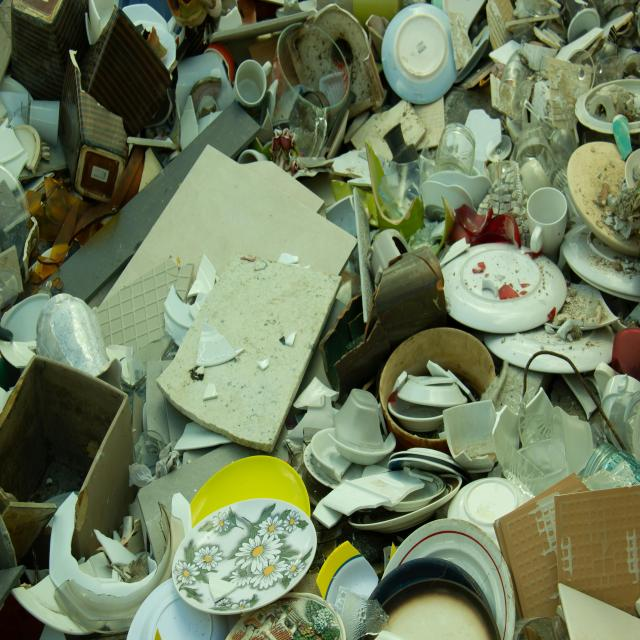electronic: (170, 494, 316, 618), (381, 7, 460, 102), (526, 183, 569, 256)
